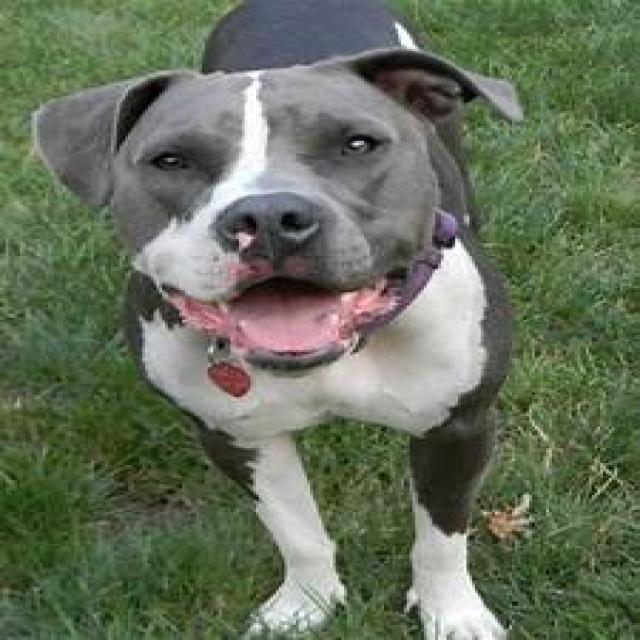KOPEK: (26, 1, 543, 640)
